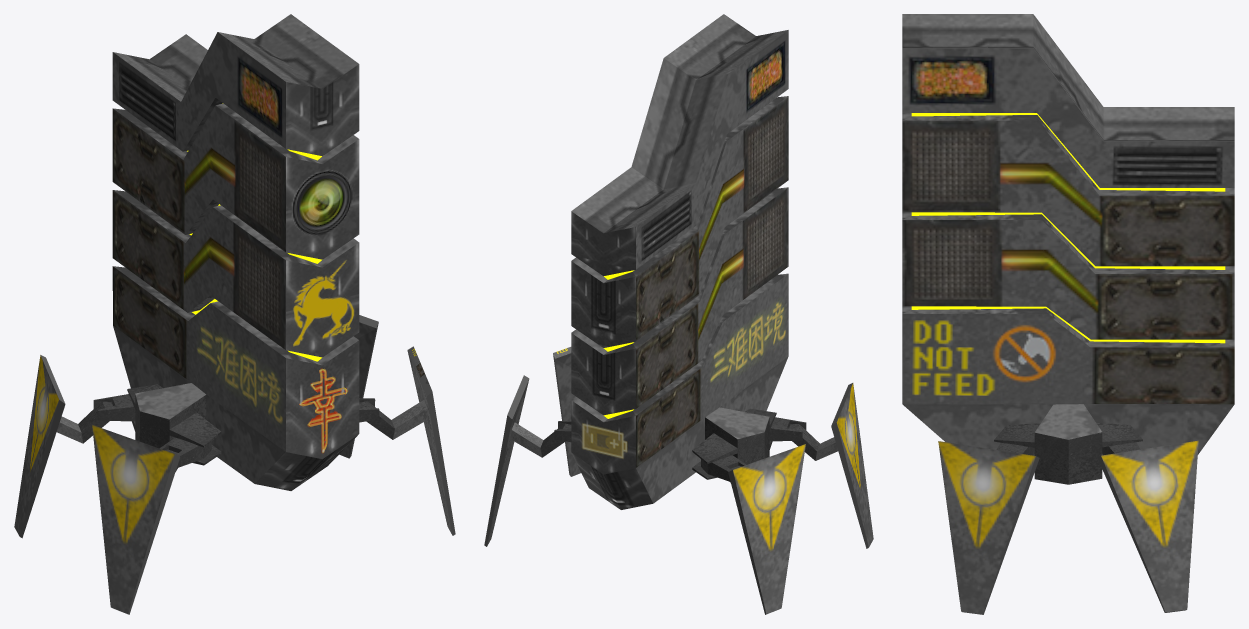
Rendered from Binance_Horse.glb.
3 views of the same model, side by side, from view 1: azimuth 30°, elevation 25°; view 2: azimuth 150°, elevation 25°; view 3: azimuth 270°, elevation 25° (orthographic). The views are drawn at different scales.
Visible parts, largest first — view 1: Horse; view 2: Horse; view 3: Horse.
Boxes of the visible parts, x1,y1,x2,y2 form: Horse: (14,14,455,614); Horse: (484,14,873,614); Horse: (902,14,1234,614).
Size of the model in its own units: 0.9028 by 1.34 by 0.7968.
Materials: 2 (1 with a texture image).
